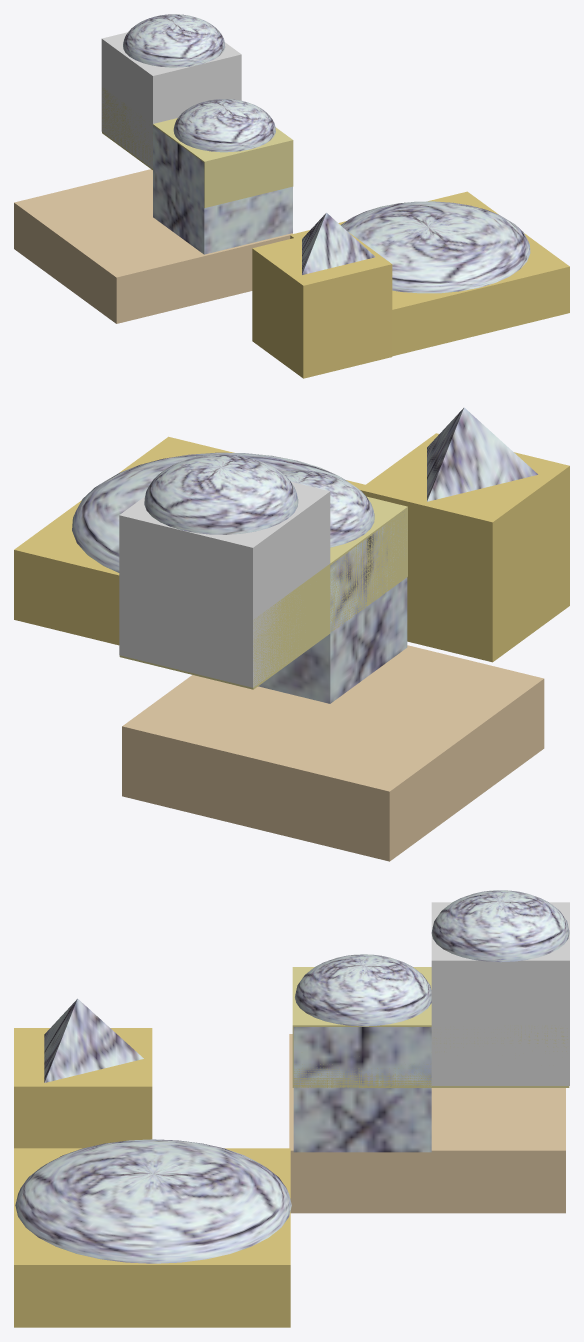
3 renders of one model, top to bottom at view 1: azimuth 30°, elevation 25°; view 2: azimuth 150°, elevation 25°; view 3: azimuth 270°, elevation 25°, orthographic. The views are drawn at different scales.
Visible parts, largest first — view 1: Cube.003; view 2: Cube.003; view 3: Cube.003.
Boxes of the visible parts, <box> form: Cube.003: <box>14,14,569,378</box>; Cube.003: <box>14,407,569,861</box>; Cube.003: <box>14,890,569,1327</box>.
Size of the model in its own units: 4.75 by 2.73 by 4.83.
6 materials, 1 textured.
